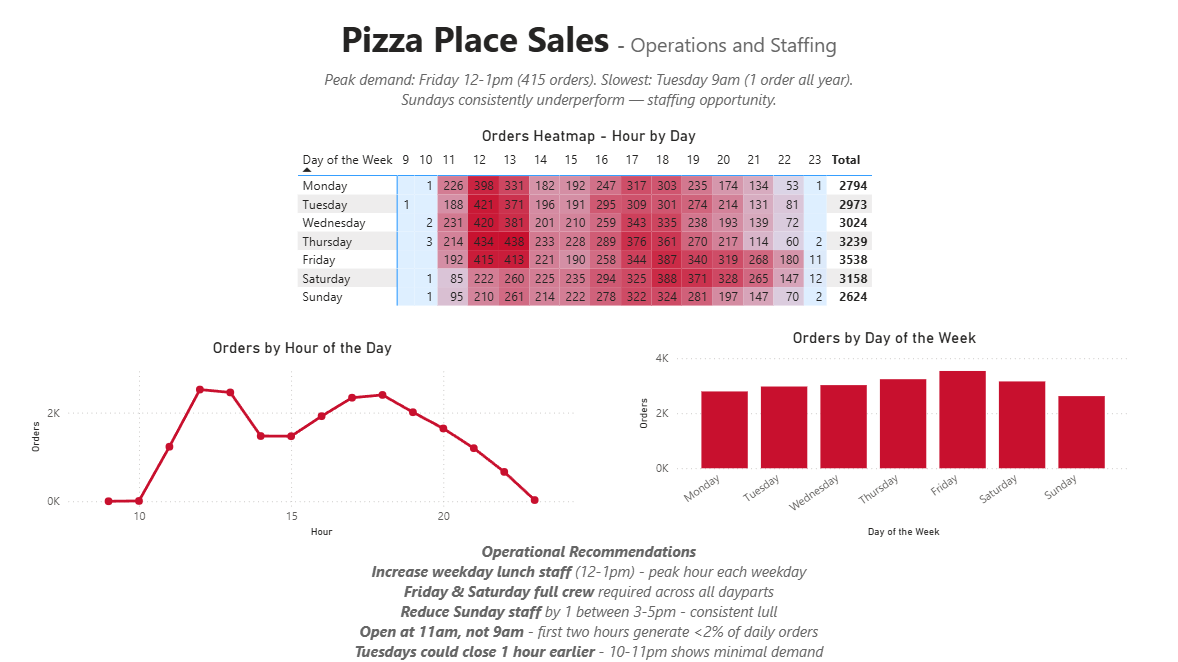

The page's visual inventory and layout, read from the dashboard file:
{"tool":"powerbi","page":{"name":"Operations and Staffing","canvas":[1280,720],"ordinal":2},"visuals":[{"type":"textbox","box":[336.2,12.3,606.5,61.7],"z":0},{"type":"pivotTable","title":"Orders Heatmap - Hour by Day","fields":{"Rows":["DateTable.Day of the Week"],"Columns":["orders.Hour"],"Values":["_Measures.Orders"]},"box":[319.7,137.2,639.5,222.3],"z":1000},{"type":"lineChart","title":"Orders by Hour of the Day","fields":{"Y":["_Measures.Orders"],"Category":["orders.Hour"]},"box":[31.6,366.4,598.3,220.9],"z":2000},{"type":"clusteredColumnChart","fields":{"Category":["DateTable.Day of the Week"],"Y":["_Measures.Orders"]},"box":[688.9,355.4,540.7,231.9],"z":3000},{"type":"textbox","box":[330.7,580.4,617.5,140],"z":4000},{"type":"textbox","box":[330.7,70,617.5,56.3],"z":5000}]}

Visuals, with their boxes in screenshot pixels (x1, y1, x2, y2), scaled from the page's 1280x720 canvas onto the 1178x662 screenshot:
textbox: 309 11 868 68
"Orders Heatmap - Hour by Day" pivotTable: 294 126 883 331
"Orders by Hour of the Day" lineChart: 29 337 580 540
clusteredColumnChart - DateTable.Day of the Week x _Measures.Orders: 634 327 1132 540
textbox: 304 534 873 661
textbox: 304 64 873 116
